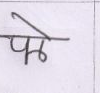e_matra: (12, 12, 50, 36)
